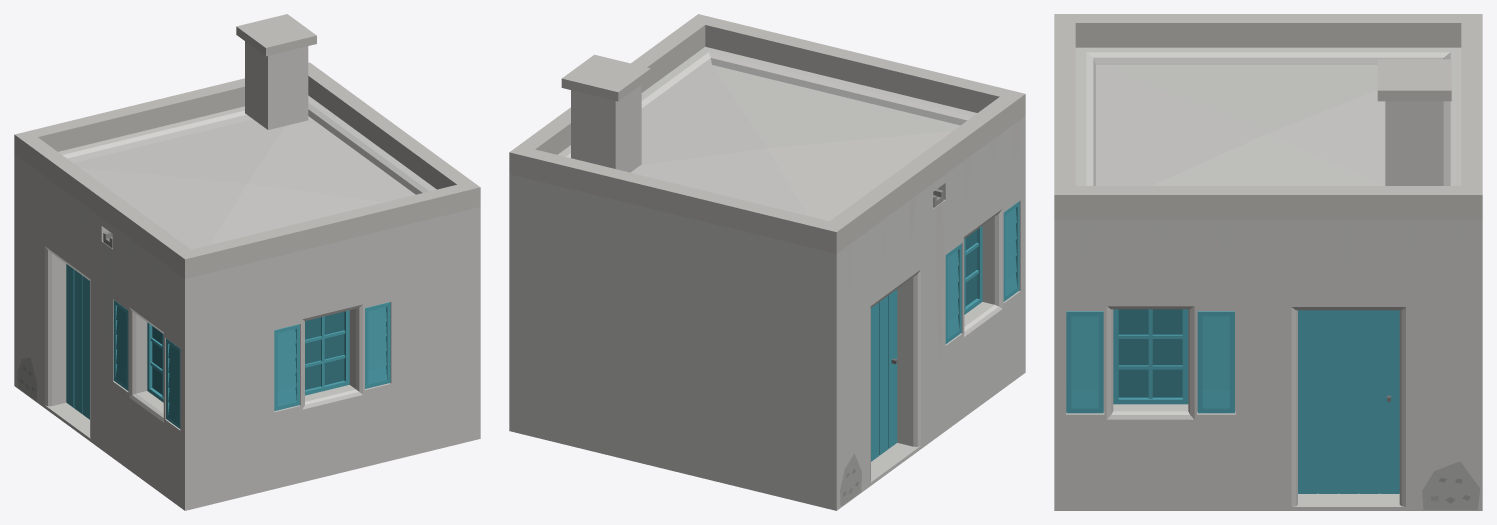
The picture shows the model from 3 angles, left to right: view 1: azimuth 30°, elevation 25°; view 2: azimuth 150°, elevation 25°; view 3: azimuth 270°, elevation 25°; orthographic projection. The views are drawn at different scales.
Visible parts, largest first — view 1: cube1d; view 2: cube1d; view 3: cube1d.
Boxes of the visible parts, left/top/right/bottom form: cube1d: left=14, top=14, right=480, bottom=510; cube1d: left=509, top=14, right=1025, bottom=510; cube1d: left=1054, top=14, right=1482, bottom=510.
Bounding box in the file's own units: 4.4 × 4.52 × 4.4.
